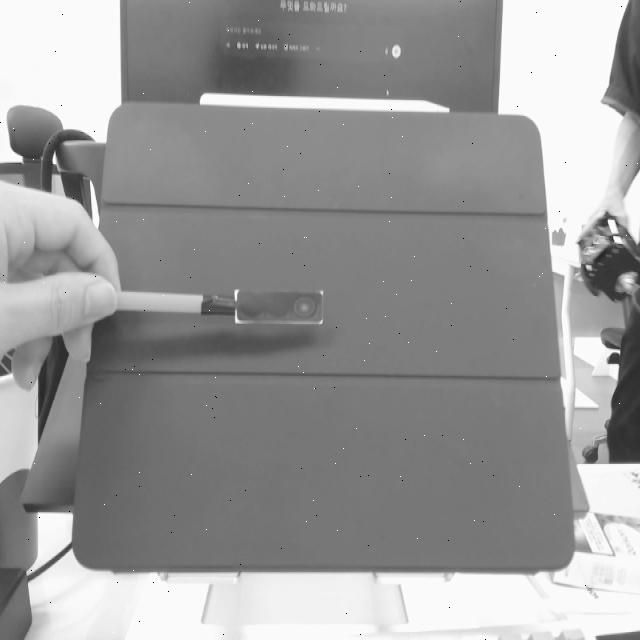traffic light: (235, 289, 325, 328)
